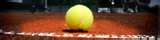tennis ball: (63, 4, 96, 34)
